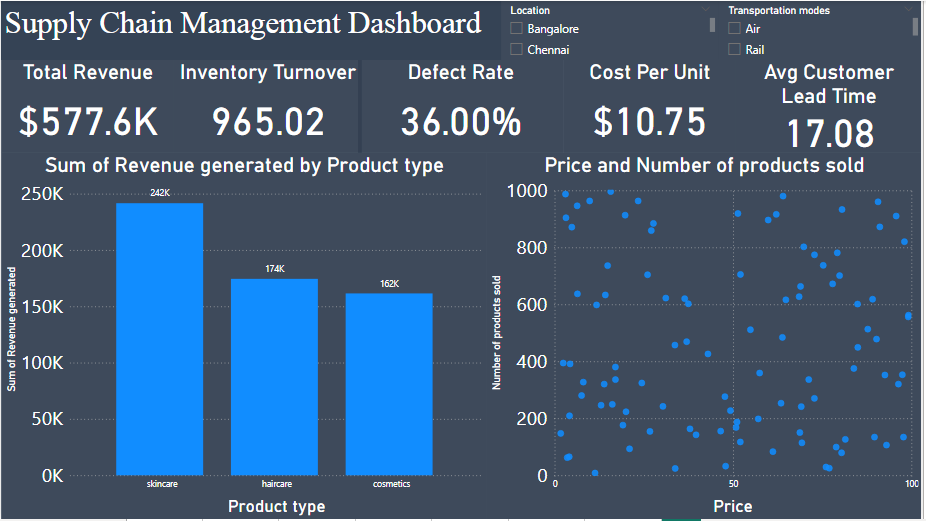

The page's visual inventory and layout, read from the dashboard file:
{"tool":"powerbi","page":{"name":"Page 1","canvas":[1280,720],"ordinal":0},"visuals":[{"type":"textbox","box":[0,0,695,82],"z":0},{"type":"card","title":"Total Revenue","fields":{"Values":["supply_chain_data.Total Revenue"]},"box":[1.4,82,239.1,129.3],"z":1000},{"type":"card","title":"Inventory Turnover","fields":{"Values":["supply_chain_data.Stock Turnover Rate"]},"box":[240.5,82,261.3,129.3],"z":2000},{"type":"card","title":"Defect Rate","fields":{"Values":["supply_chain_data.Defect Rate"]},"box":[496.2,82,286.3,129.3],"z":3000},{"type":"card","title":"Cost Per Unit","fields":{"Values":["supply_chain_data.Cost per order"]},"box":[782.5,82,239.1,129.3],"z":4000},{"type":"card","title":"Avg Customer Lead Time","fields":{"Values":["Avg(supply_chain_data.Lead time)"]},"box":[1021.6,82,258.5,129.3],"z":5000},{"type":"columnChart","fields":{"Category":["supply_chain_data.Product type"],"Y":["Sum(supply_chain_data.Revenue generated)"]},"box":[1.4,211.3,674.1,508.7],"z":6000},{"type":"scatterChart","fields":{"Y":["supply_chain_data.Number of products sold"],"X":["supply_chain_data.Price"]},"box":[675.5,211.3,604.6,508.7],"z":7000},{"type":"slicer","fields":{"Values":["supply_chain_data.Location"]},"box":[695,0,303,82],"z":8000},{"type":"slicer","fields":{"Values":["supply_chain_data.Transportation modes"]},"box":[997.8,0,282.2,82],"z":9000}]}

Visuals, with their boxes in screenshot pixels (x1, y1, x2, y2), scaled from the page's 1280x720 canvas onto the 926x521 screenshot:
textbox: 0 0 503 59
"Total Revenue" card: 1 59 174 153
"Inventory Turnover" card: 174 59 363 153
"Defect Rate" card: 359 59 566 153
"Cost Per Unit" card: 566 59 739 153
"Avg Customer Lead Time" card: 739 59 925 153
columnChart - supply_chain_data.Product type x Sum(supply_chain_data.Revenue generated): 1 153 489 520
scatterChart - supply_chain_data.Number of products sold x supply_chain_data.Price: 489 153 925 520
slicer - supply_chain_data.Location: 503 0 722 59
slicer - supply_chain_data.Transportation modes: 722 0 925 59
